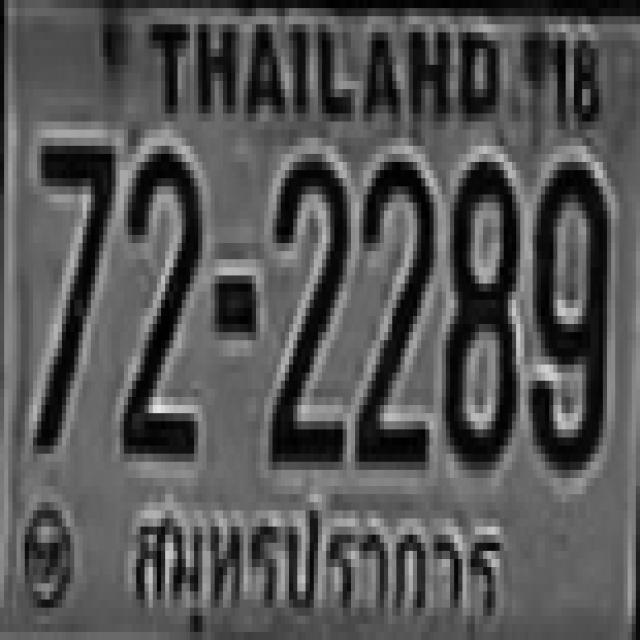2: (268, 146, 347, 462), (120, 142, 198, 450), (355, 154, 430, 462)
7: (33, 137, 112, 446)
8: (442, 154, 516, 462)
9: (528, 154, 603, 462)
SamutPrakan: (119, 497, 508, 627)
